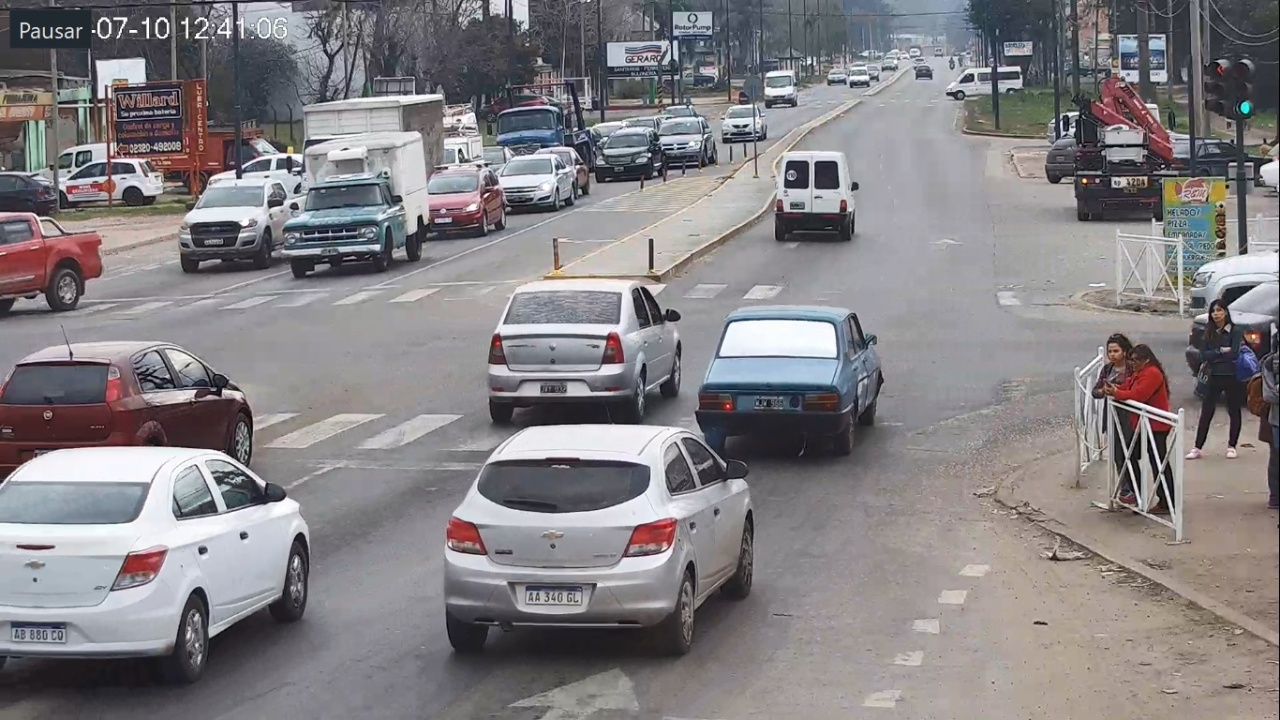car: (445, 423, 753, 655), (1, 444, 310, 675), (1, 342, 253, 467), (695, 305, 884, 454), (488, 280, 682, 424), (775, 151, 859, 242)
traffic light: (1232, 57, 1256, 117)
